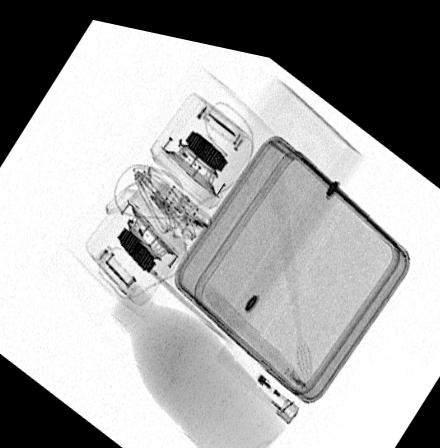Lighter: (213, 327, 303, 412)
